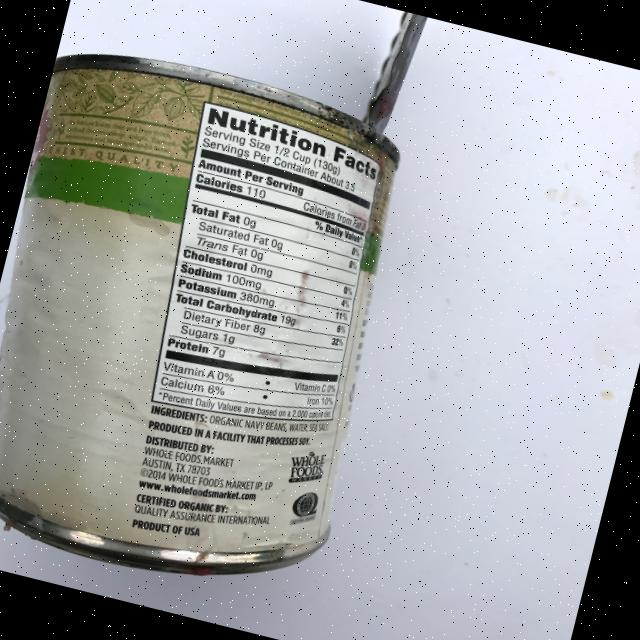metal: (0, 31, 432, 613)
